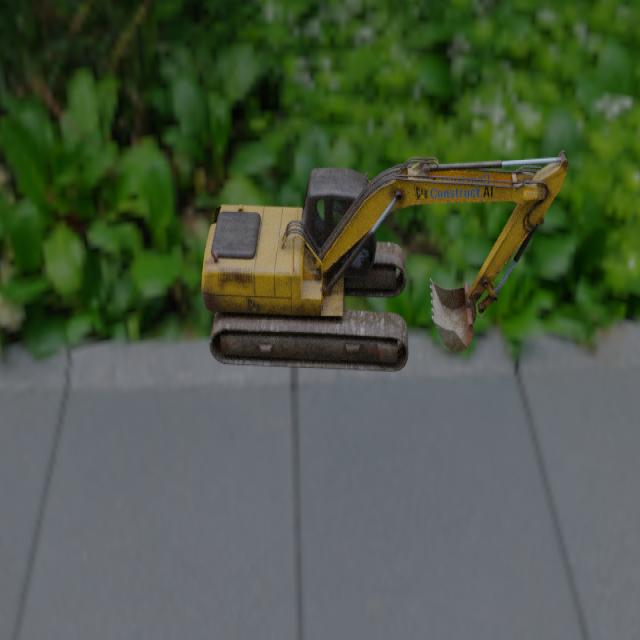excavator: (200, 149, 569, 372)
